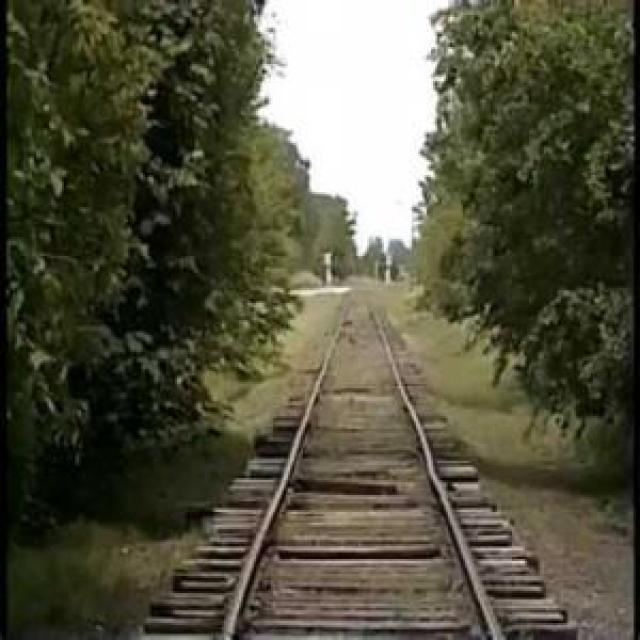rail: (364, 292, 538, 637), (196, 291, 358, 640)
